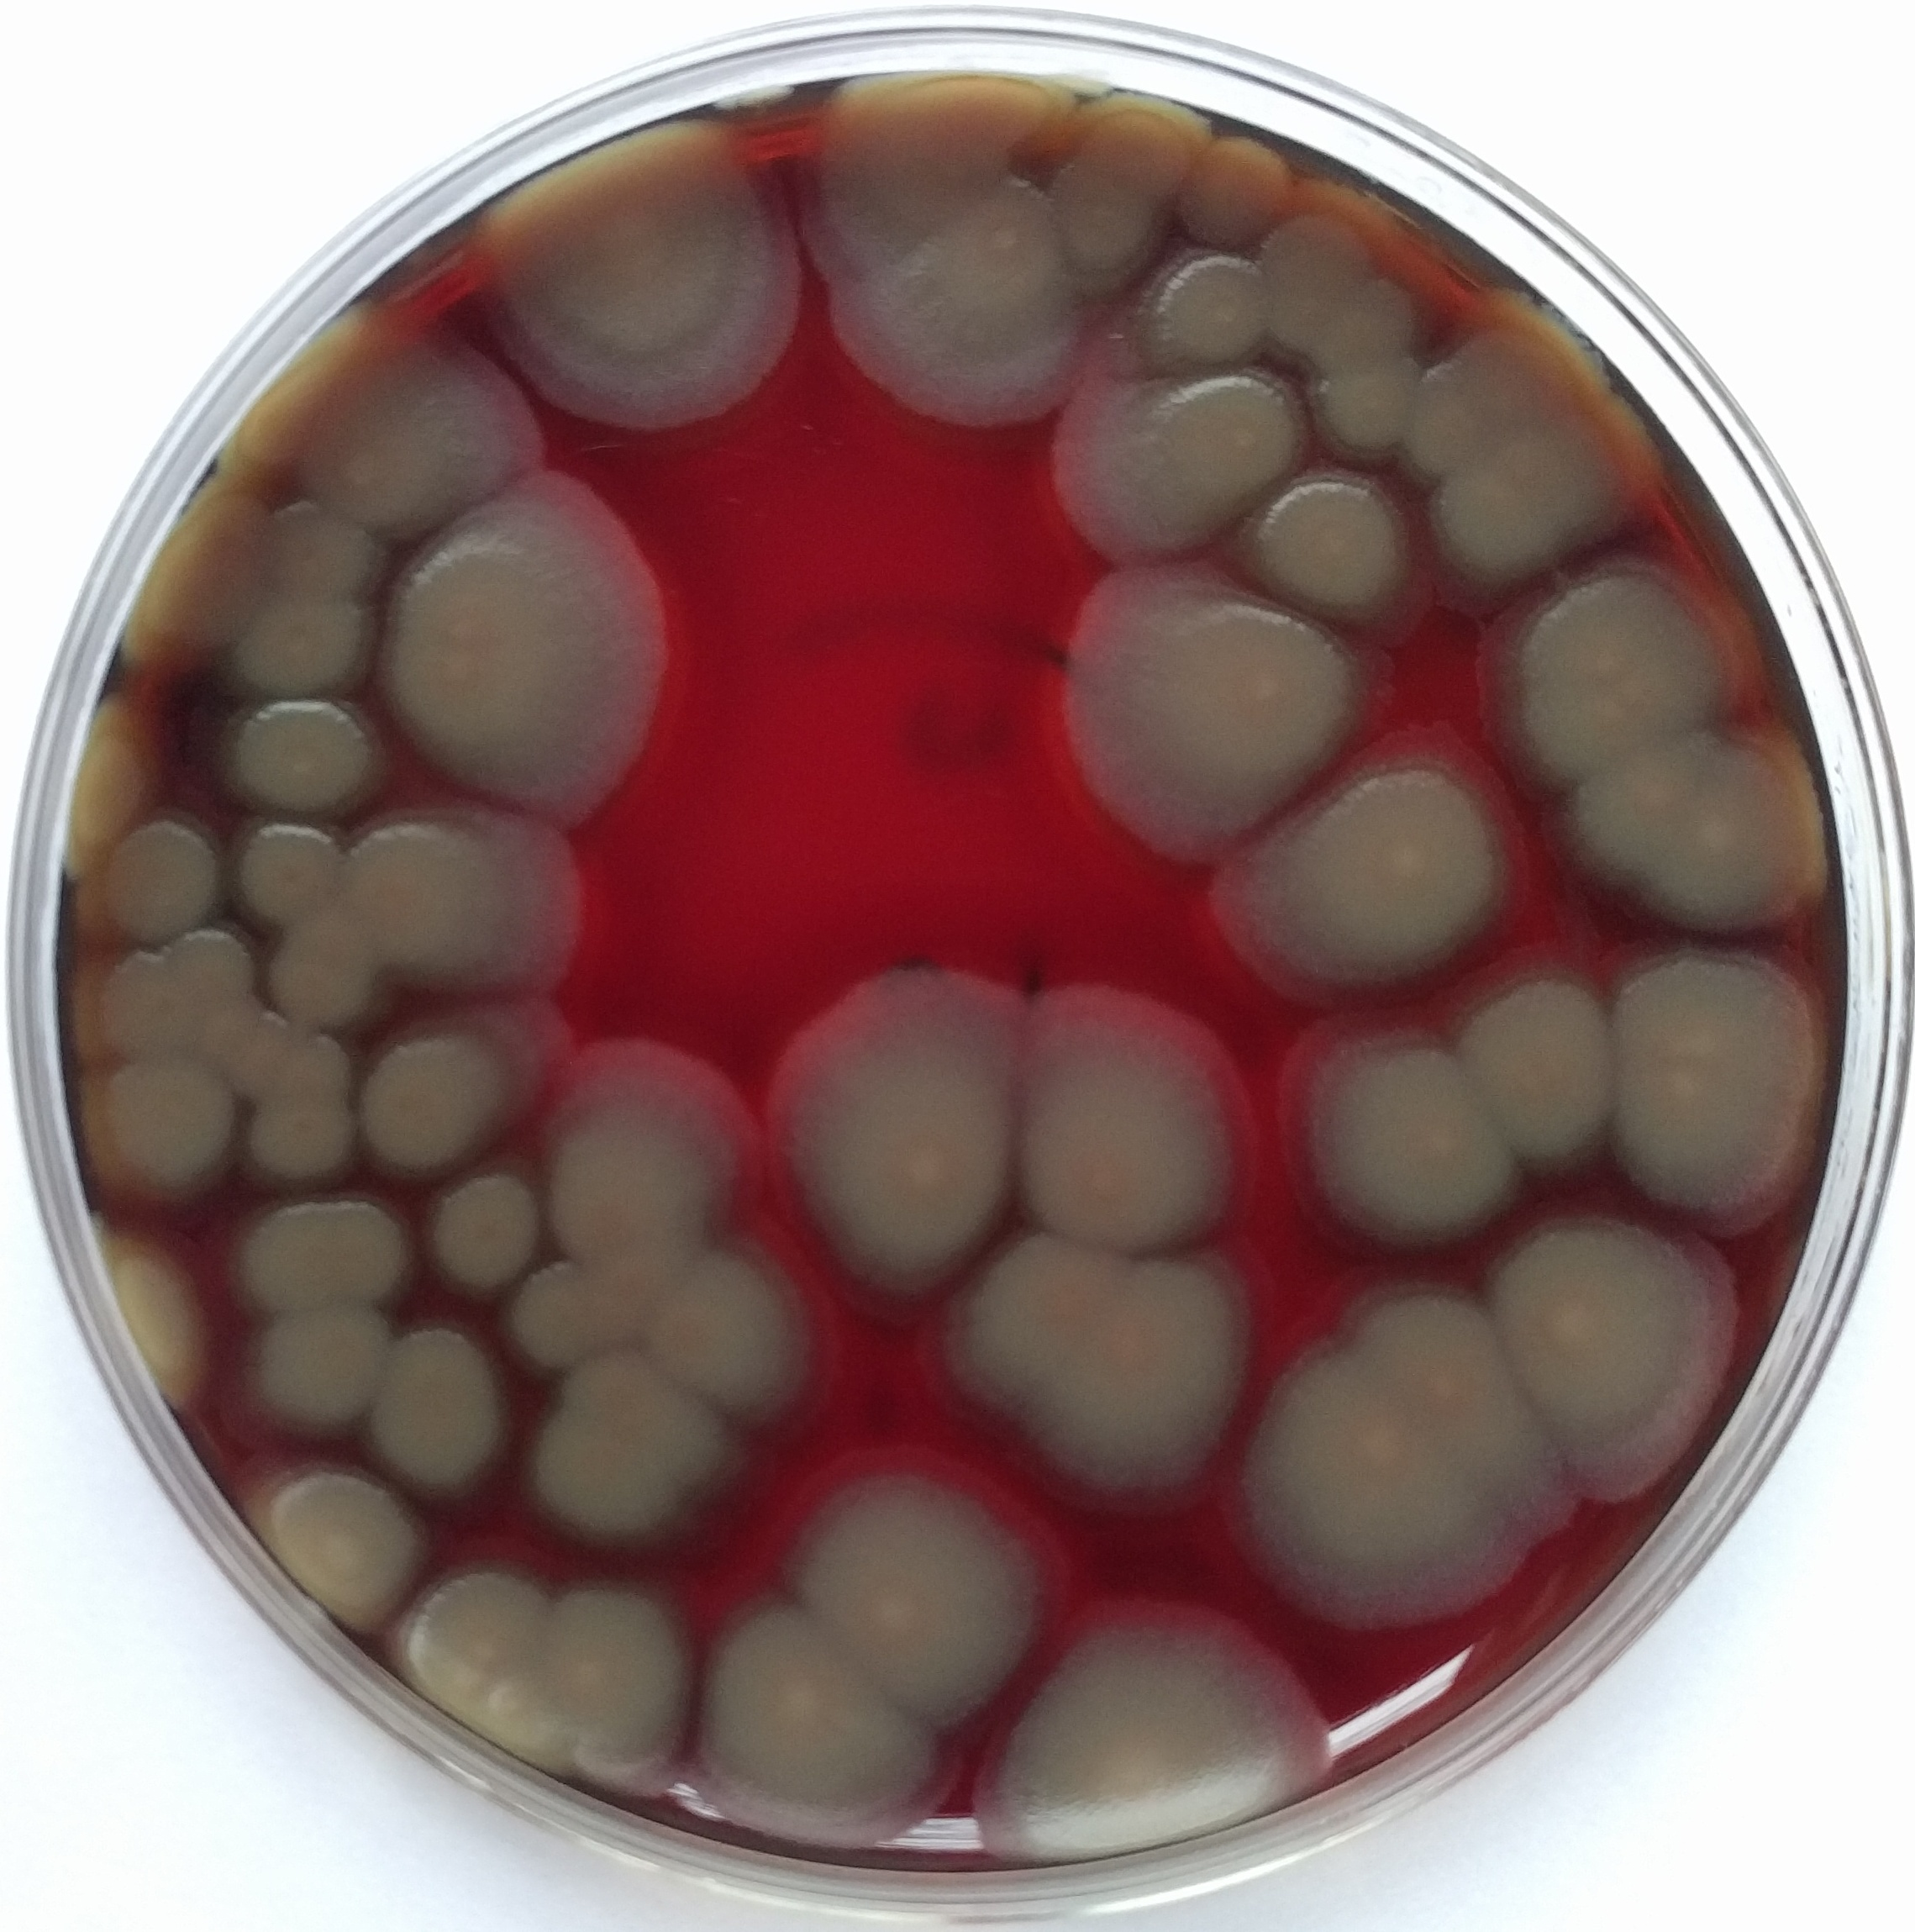sp04: (965, 1571, 1387, 1883), (372, 459, 694, 849), (880, 1218, 1259, 1529), (488, 121, 838, 454), (1042, 552, 1387, 875), (1185, 703, 1531, 1015), (808, 177, 1136, 505), (770, 947, 1043, 1318), (1478, 1173, 1740, 1529), (1240, 1311, 1513, 1639), (998, 952, 1287, 1259), (770, 1445, 1066, 1739), (256, 288, 561, 554), (1319, 1283, 1603, 1557), (675, 1583, 972, 1834), (510, 1013, 777, 1290), (775, 49, 1066, 266), (1036, 359, 1321, 582), (1306, 1006, 1536, 1262), (323, 796, 600, 1008), (510, 1334, 761, 1562), (1506, 559, 1752, 775), (221, 1411, 440, 1650), (1584, 1040, 1845, 1236), (365, 1532, 566, 1772), (1522, 685, 1719, 926), (1456, 947, 1641, 1192), (1429, 398, 1657, 587), (521, 1566, 694, 1801), (1601, 919, 1834, 1092), (51, 1029, 240, 1231), (1235, 465, 1431, 649), (1406, 298, 1613, 472), (1650, 714, 1845, 898), (217, 1173, 428, 1341), (338, 1013, 544, 1185), (626, 1250, 822, 1429), (79, 1206, 235, 1424), (365, 1311, 517, 1529), (1114, 237, 1308, 394), (244, 1289, 402, 1467), (1285, 270, 1436, 454), (1029, 142, 1187, 295), (488, 1222, 633, 1385), (205, 465, 395, 587), (79, 796, 223, 954), (217, 675, 379, 815), (393, 1157, 556, 1290), (1247, 203, 1387, 356), (161, 896, 279, 1069), (217, 975, 351, 1119), (1163, 121, 1308, 251), (217, 575, 374, 693), (217, 813, 367, 936), (51, 919, 184, 1054), (1064, 65, 1210, 179), (221, 1090, 367, 1185)
